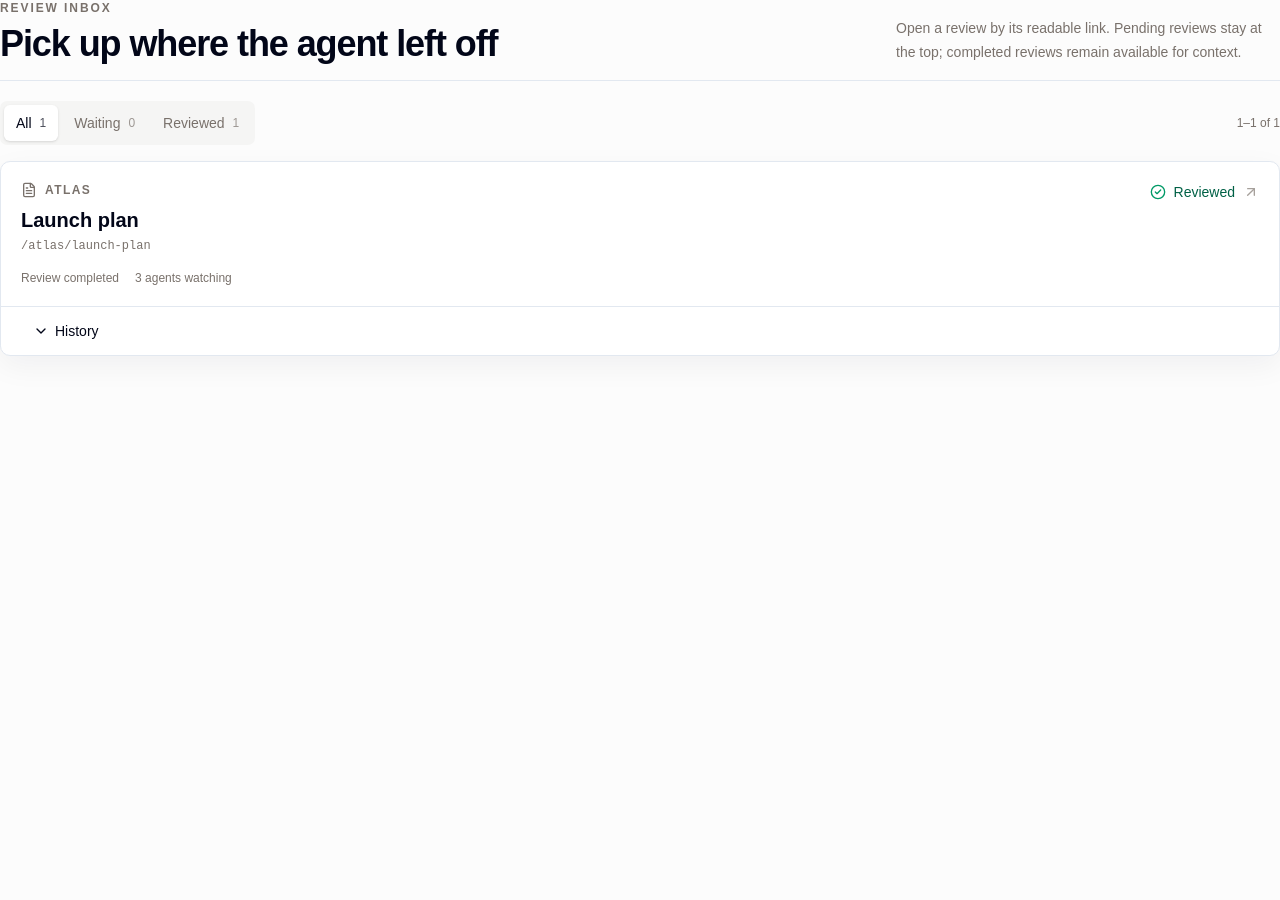
ReviewHome review history › inspects snapshot content read-only and disables restore until it loads
The image size is (1280, 900).
Click the button "History": [66, 331] box [21, 315, 111, 347]
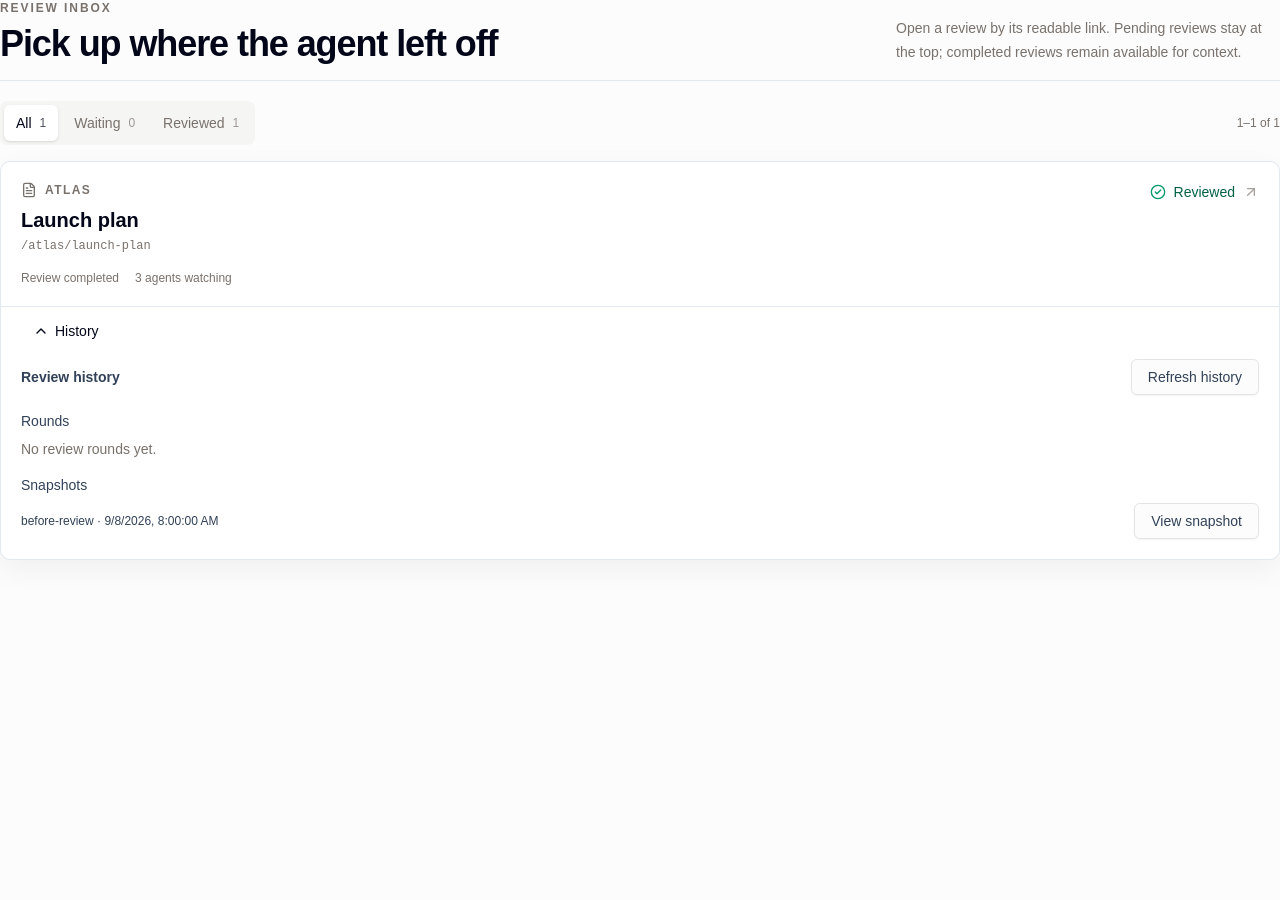
Click the button "View snapshot": [1197, 521] box [1134, 503, 1259, 539]
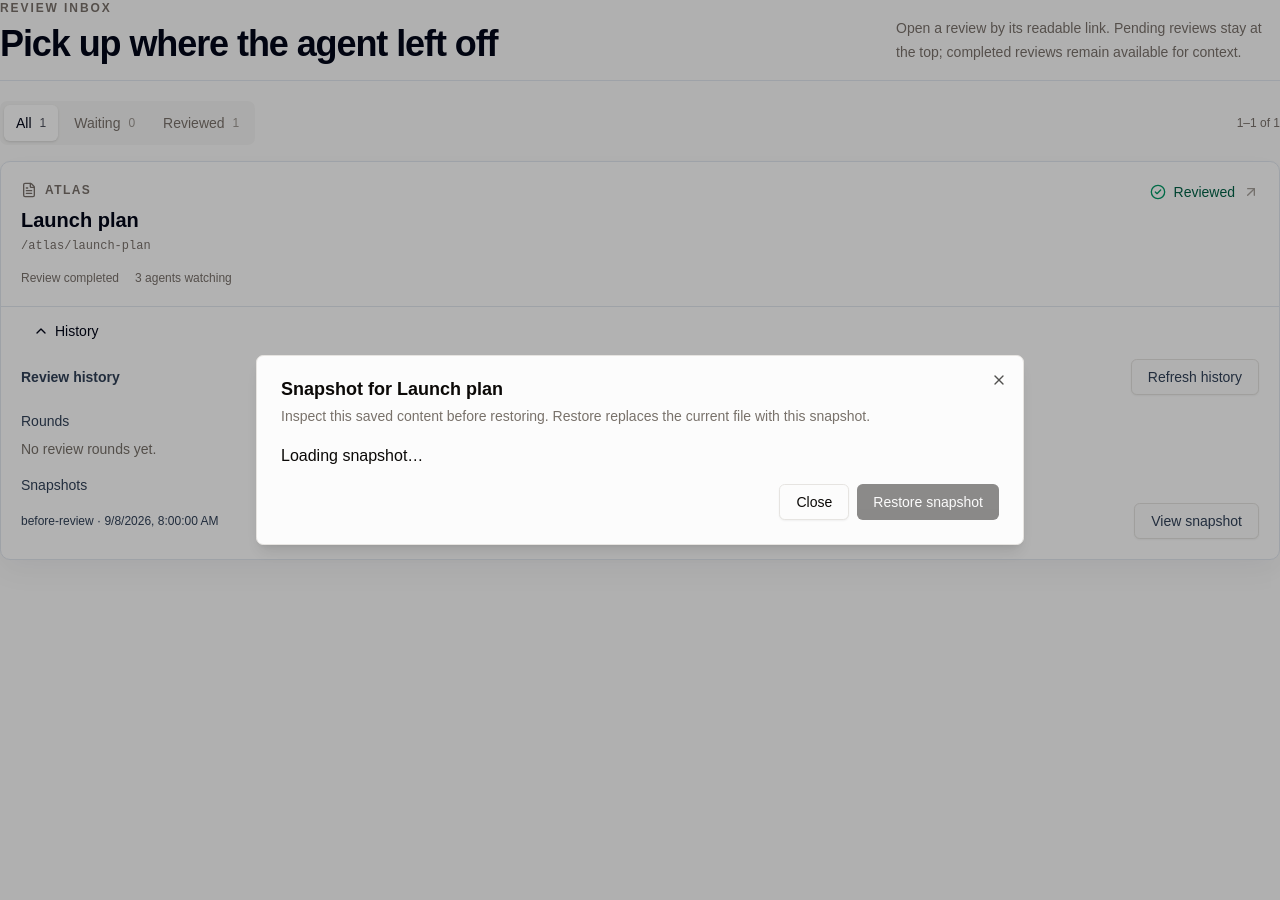
expect the button "Restore snapshot" is disabled: met
expect the dialog is shown: met, box [256, 355, 1024, 545]
Click the button "Restore snapshot": [928, 502] box [857, 484, 999, 520]
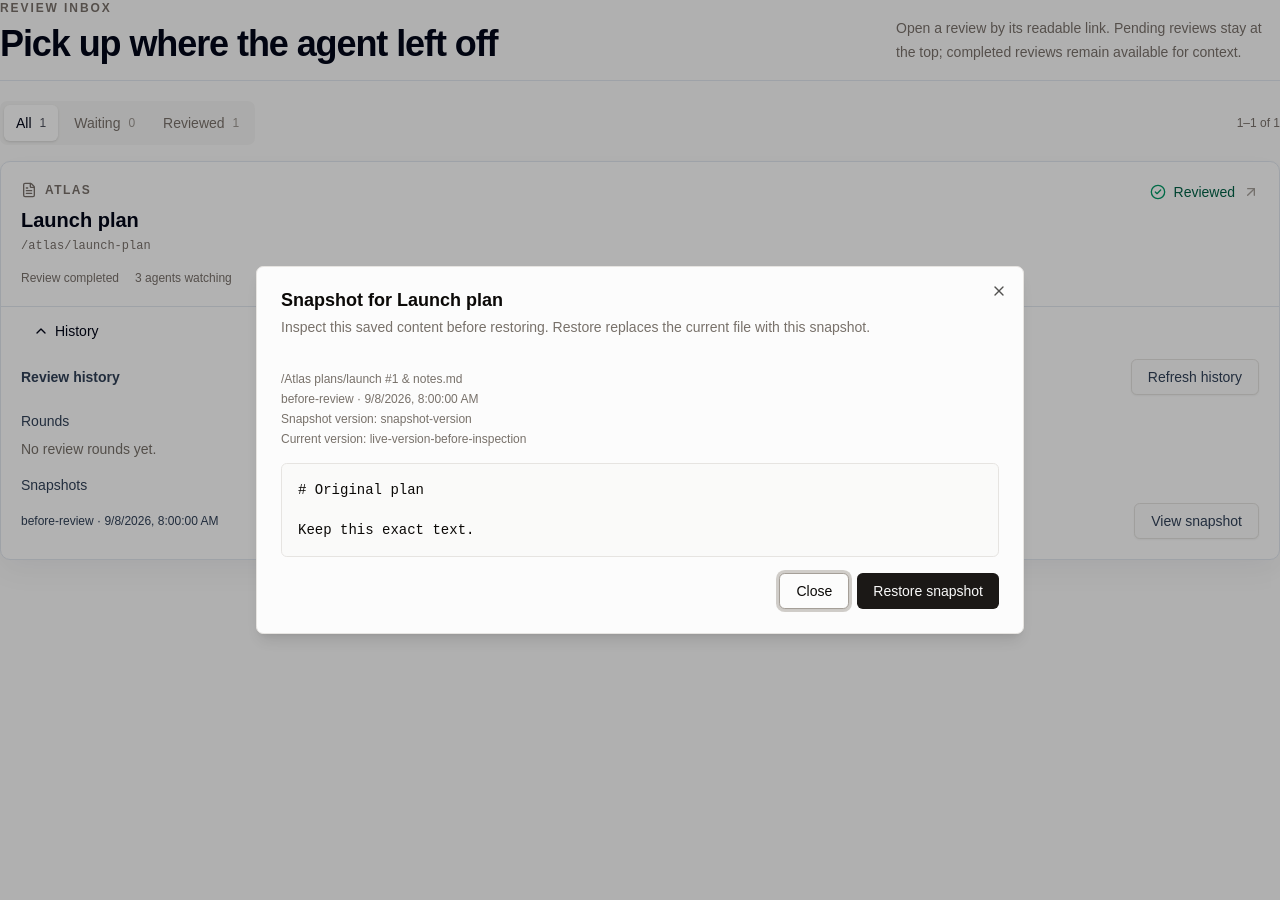
expect the dialog is shown: met, box [256, 266, 1024, 634]
expect the button "Restore snapshot" is enabled: met, box [857, 573, 999, 609]
